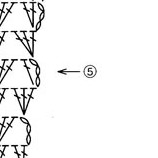enseble_chain: (15, 41, 43, 91), (17, 0, 42, 35), (0, 55, 23, 91), (18, 28, 41, 60), (16, 87, 35, 115), (18, 118, 35, 147), (56, 63, 82, 80), (34, 2, 48, 24), (81, 64, 97, 78), (10, 143, 24, 158)
